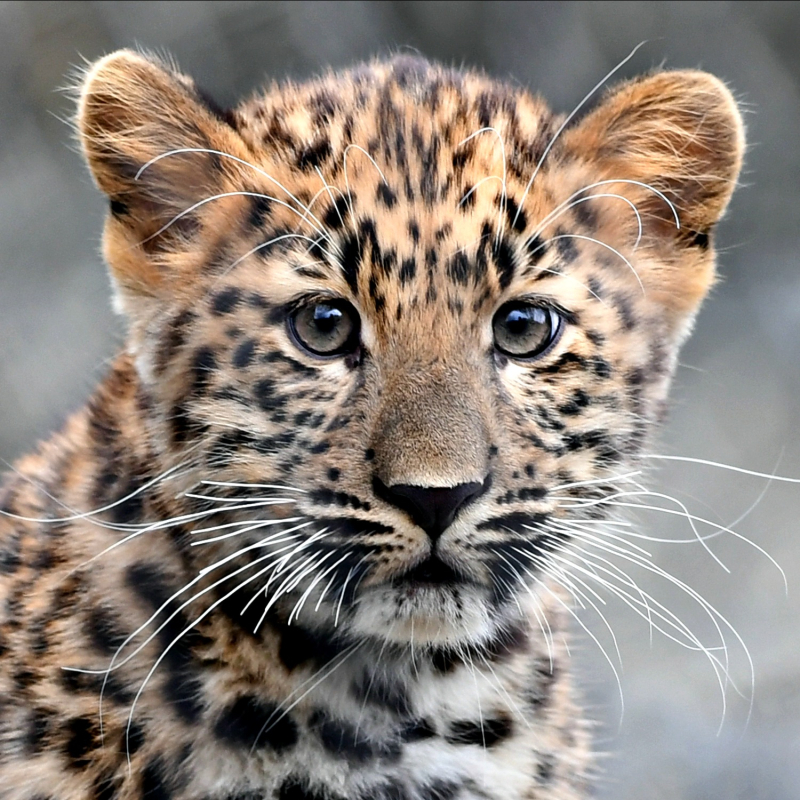amur_leopard: (37, 31, 779, 791)
